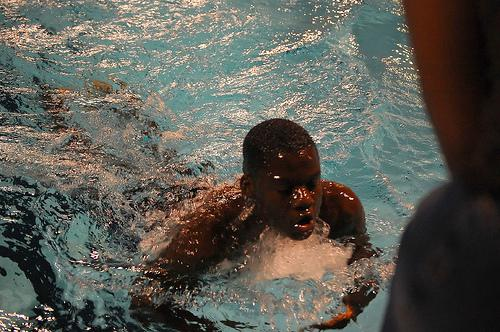swimmer: (43, 78, 380, 326)
